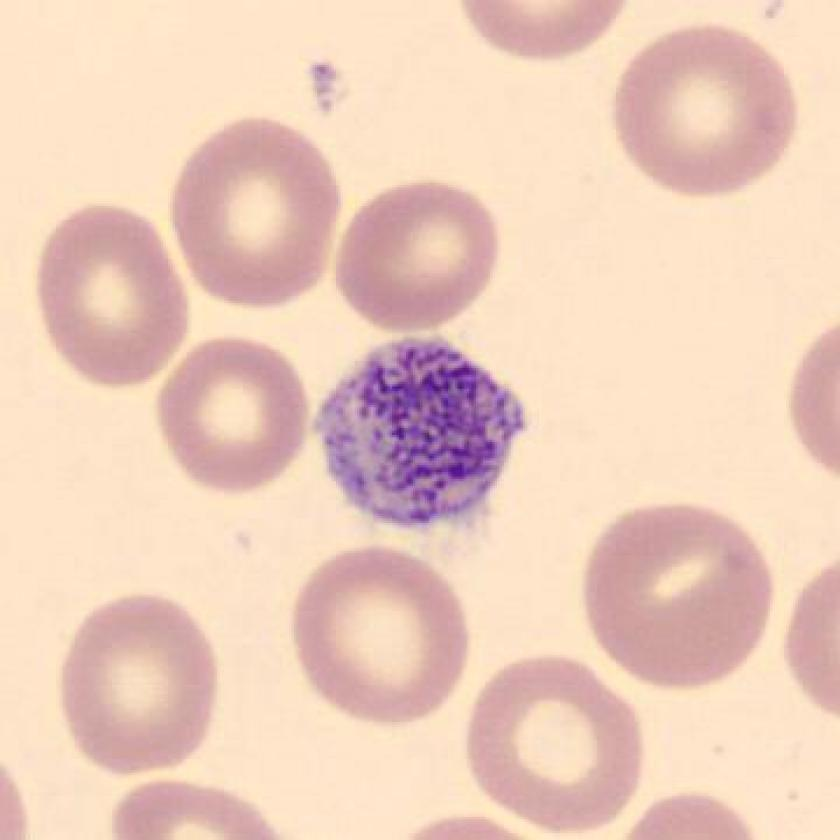platelets: (311, 330, 545, 536)
